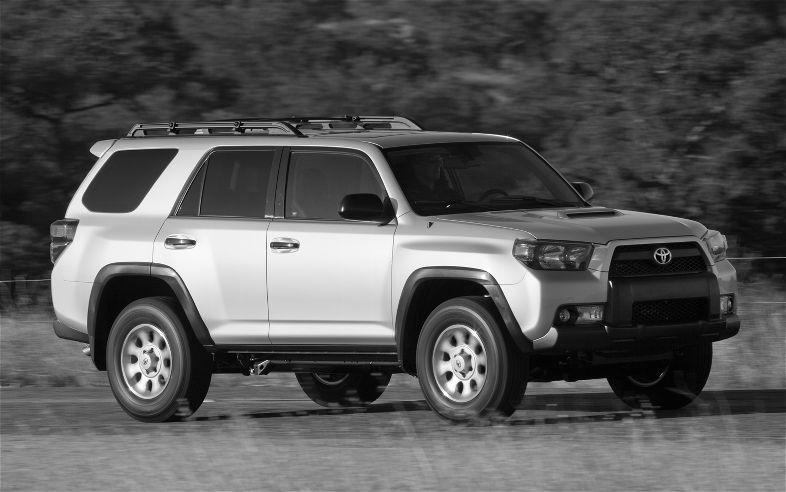car: (47, 113, 749, 426)
